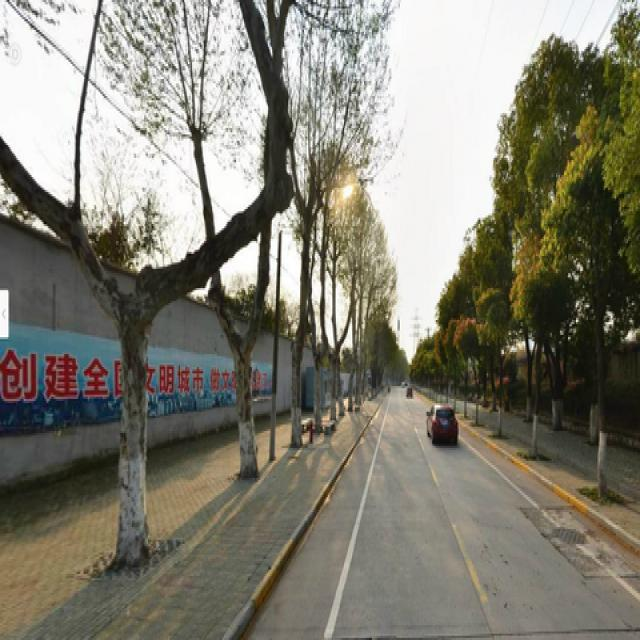cinn: (538, 62, 614, 499)
